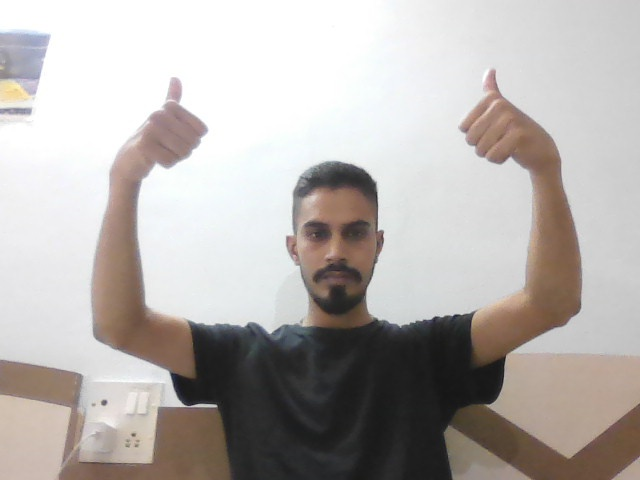ThumbsUp: (456, 62, 557, 167)
